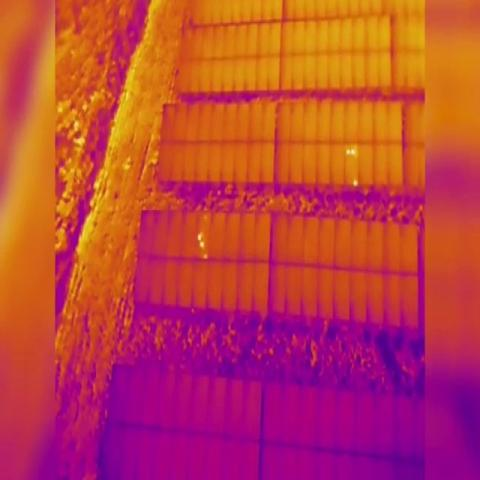fault: (348, 144, 356, 157), (345, 147, 351, 158), (352, 176, 358, 187), (197, 232, 202, 243), (199, 240, 204, 250), (203, 252, 208, 262)
